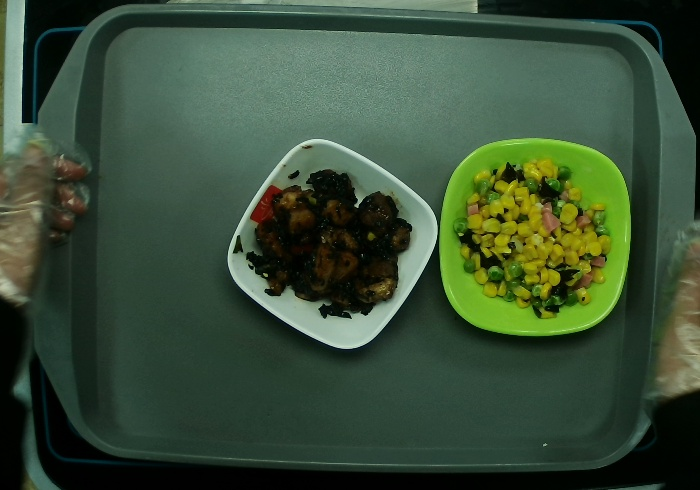SHKJ-Bai_Se_Xiao_Fang_Die: (225, 138, 439, 351)
SHKJ-Lv_Se_Cai_Die: (438, 136, 637, 340)
